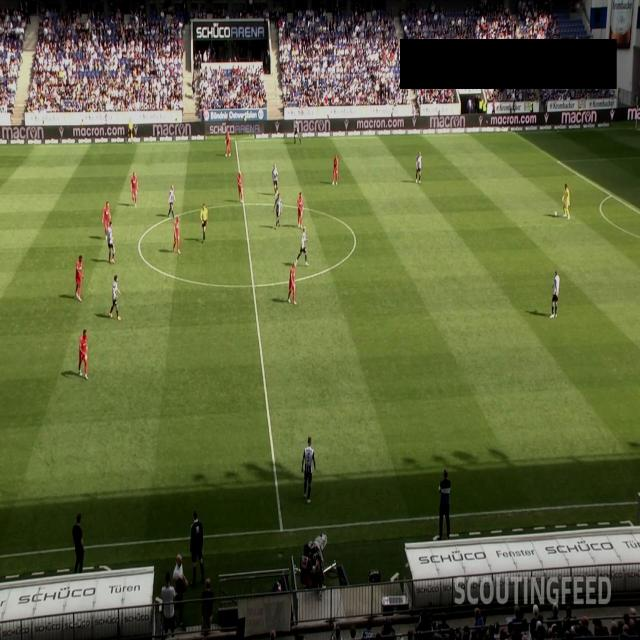ball: (554, 210, 558, 218)
goalkeeper: (562, 183, 570, 220)
player: (301, 436, 316, 504), (109, 274, 121, 321), (296, 226, 310, 266), (78, 328, 88, 380), (550, 269, 560, 319), (74, 254, 84, 302), (287, 259, 297, 305), (106, 221, 116, 265), (102, 200, 112, 239), (173, 214, 181, 254), (167, 184, 176, 218), (130, 171, 138, 207), (274, 192, 282, 228), (236, 170, 244, 206), (297, 191, 304, 229), (294, 117, 302, 145), (416, 150, 422, 184), (272, 163, 278, 195), (332, 154, 338, 186), (225, 130, 231, 157)
referee: (200, 203, 208, 243), (128, 118, 134, 142)
